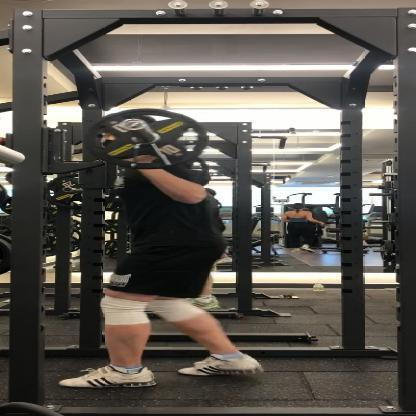barbell: (83, 108, 208, 169)
